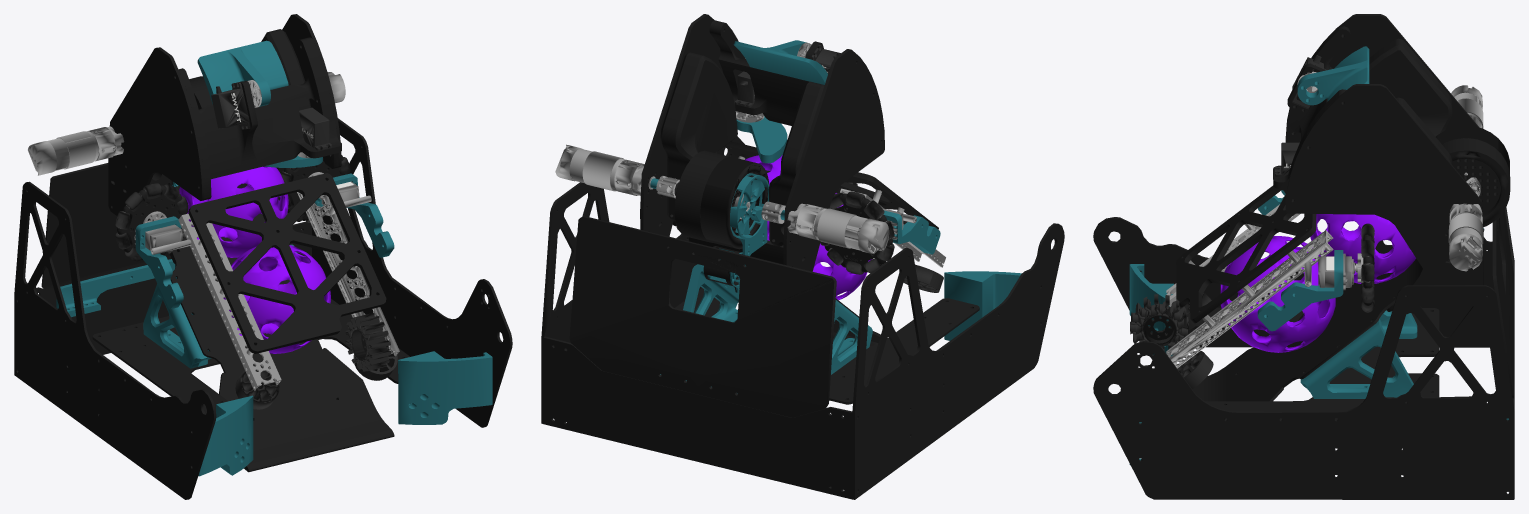
Rendered from v1top.glb.
3 renders of one model, left to right at view 1: azimuth 30°, elevation 25°; view 2: azimuth 150°, elevation 25°; view 3: azimuth 270°, elevation 25°, orthographic. The views are drawn at different scales.
Visible parts, largest first — view 1: object 8, anim_ftc_6_ball_mid, anim_ftc_4_flap, anim_ftc_5_ball_top, anim_ftc_2_feed_l, anim_ftc_3_feed_r; view 2: object 8, anim_ftc_0_flywheel, anim_ftc_2_feed_l, anim_ftc_4_flap, anim_ftc_1_gate, anim_ftc_6_ball_mid; view 3: object 8, anim_ftc_6_ball_mid, anim_ftc_0_flywheel, anim_ftc_5_ball_top, anim_ftc_4_flap, anim_ftc_3_feed_r.
Boxes of the visible parts, x1,y1,x2,y2 form: object 8: [14, 14, 512, 499]; anim_ftc_6_ball_mid: [223, 245, 330, 353]; anim_ftc_4_flap: [197, 40, 288, 107]; anim_ftc_5_ball_top: [179, 166, 288, 257]; anim_ftc_2_feed_l: [115, 183, 188, 261]; anim_ftc_3_feed_r: [278, 155, 350, 222]; object 8: [541, 14, 1064, 499]; anim_ftc_0_flywheel: [656, 150, 785, 249]; anim_ftc_2_feed_l: [820, 191, 894, 274]; anim_ftc_4_flap: [733, 40, 827, 84]; anim_ftc_1_gate: [735, 111, 787, 163]; anim_ftc_6_ball_mid: [812, 193, 872, 300]; object 8: [1093, 14, 1514, 499]; anim_ftc_6_ball_mid: [1220, 236, 1335, 352]; anim_ftc_0_flywheel: [1436, 125, 1510, 227]; anim_ftc_5_ball_top: [1310, 214, 1415, 283]; anim_ftc_4_flap: [1297, 46, 1369, 105]; anim_ftc_3_feed_r: [1356, 223, 1374, 312].
Size of the model in its own units: 0.3994 by 0.4474 by 0.4568.
